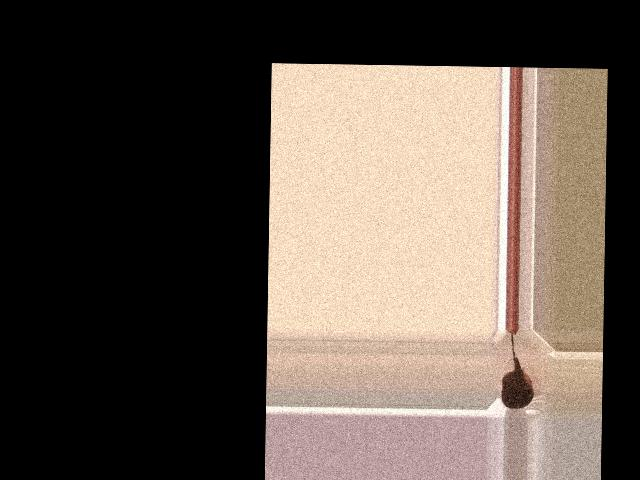beet: (501, 331, 535, 409)
